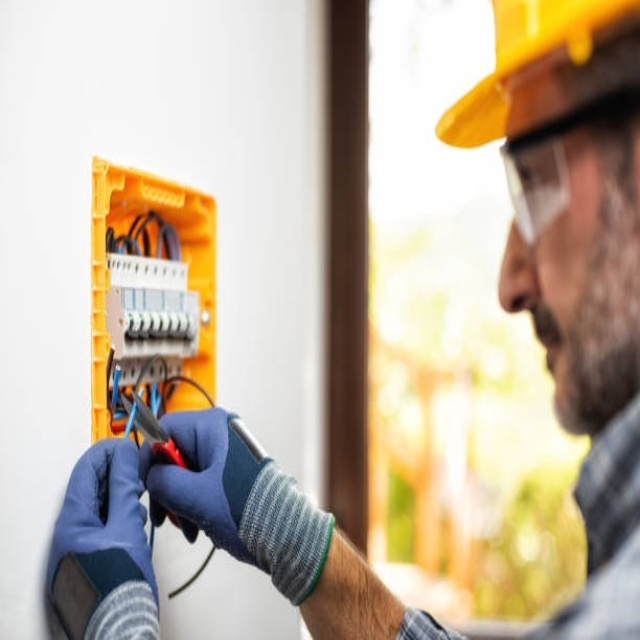Gafas: (496, 90, 639, 248)
Guantes: (142, 403, 334, 605), (46, 435, 160, 639)
Sin_mascara: (523, 301, 599, 427)
